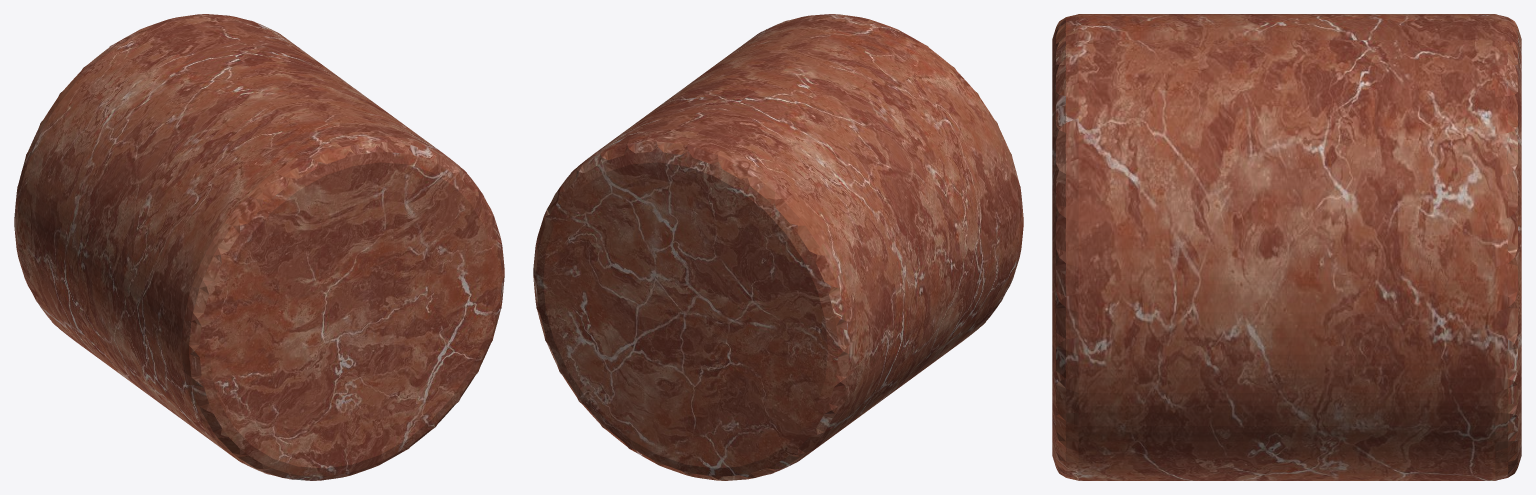
File: EnemyAlternative.obj
3 renders of one model, left to right at view 1: azimuth 30°, elevation 25°; view 2: azimuth 150°, elevation 25°; view 3: azimuth 270°, elevation 25°, orthographic. The views are drawn at different scales.
Visible parts, largest first — view 1: Enemy; view 2: Enemy; view 3: Enemy.
Boxes of the visible parts, <box> form: Enemy: <box>14,14,504,480</box>; Enemy: <box>533,14,1023,480</box>; Enemy: <box>1052,14,1521,480</box>.
Bounding box in the file's own units: 0.985 × 0.985 × 0.9922.
